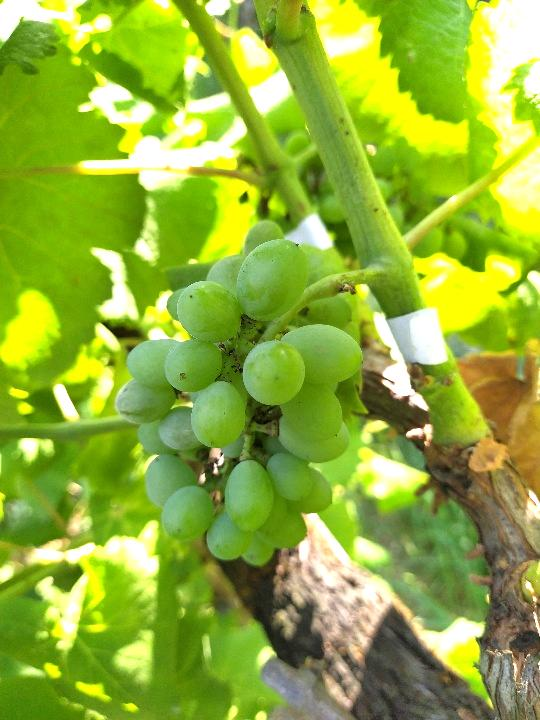grape: (106, 212, 369, 571)
